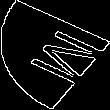M_SE: (9, 22, 101, 88)
